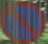No waiting: (0, 1, 44, 43)
